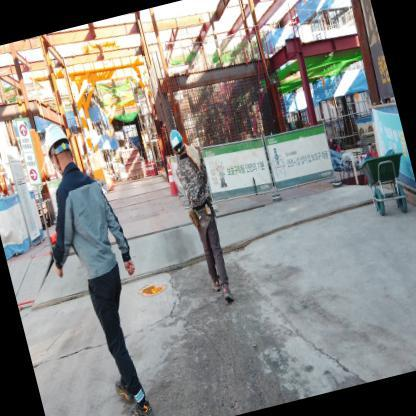safety-shoe: (125, 397, 164, 415), (113, 377, 134, 404), (220, 281, 237, 305), (209, 275, 224, 297)
